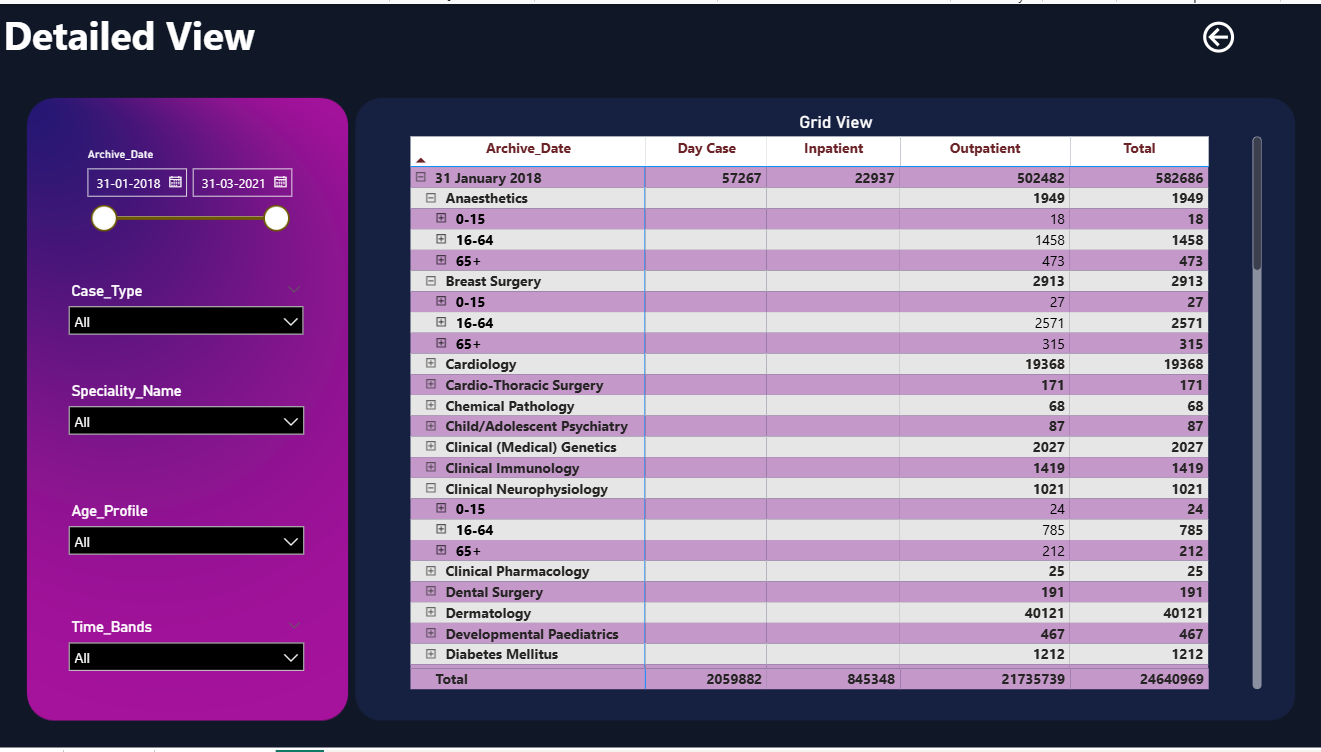

The page's visual inventory and layout, read from the dashboard file:
{"tool":"powerbi","page":{"name":"Detail","canvas":[1280,720],"ordinal":1},"visuals":[{"type":"slicer","fields":{"Values":["All_Data.Archive_Date"]},"box":[73.6,133.9,216,90.5],"z":0},{"type":"slicer","fields":{"Values":["All_Data.Case_Type"]},"box":[57.6,263.5,247,72.7],"z":1000},{"type":"slicer","fields":{"Values":["All_Data.Speciality_Name"]},"box":[57.9,359.5,247.3,77.2],"z":2000},{"type":"slicer","fields":{"Values":["All_Data.Age_Profile"]},"box":[57.9,475.3,247.3,79.6],"z":3000},{"type":"slicer","fields":{"Values":["All_Data.Time_Bands"]},"box":[57.9,587.5,247.3,79.6],"z":4000},{"type":"textbox","box":[0,0,267.6,64.5],"z":5000},{"type":"pivotTable","title":"Grid View","fields":{"Rows":["All_Data.Archive_Date","All_Data.Speciality_Name","All_Data.Age_Profile","All_Data.Time_Bands"],"Columns":["All_Data.Case_Type"],"Values":["Sum(All_Data.Total)"]},"box":[393.8,104.3,831.6,562.6],"z":6000},{"type":"actionButton","box":[1158.2,12.1,100.1,39.8],"z":7000}]}

Visuals, with their boxes in screenshot pixels (x1, y1, x2, y2), scaled from the page's 1280x720 canvas onto the 1321x752 screenshot:
slicer - All_Data.Archive_Date: 76 140 299 234
slicer - All_Data.Case_Type: 59 275 314 351
slicer - All_Data.Speciality_Name: 60 375 315 456
slicer - All_Data.Age_Profile: 60 496 315 580
slicer - All_Data.Time_Bands: 60 614 315 697
textbox: 0 0 276 67
"Grid View" pivotTable: 406 109 1265 697
actionButton: 1195 13 1299 54
